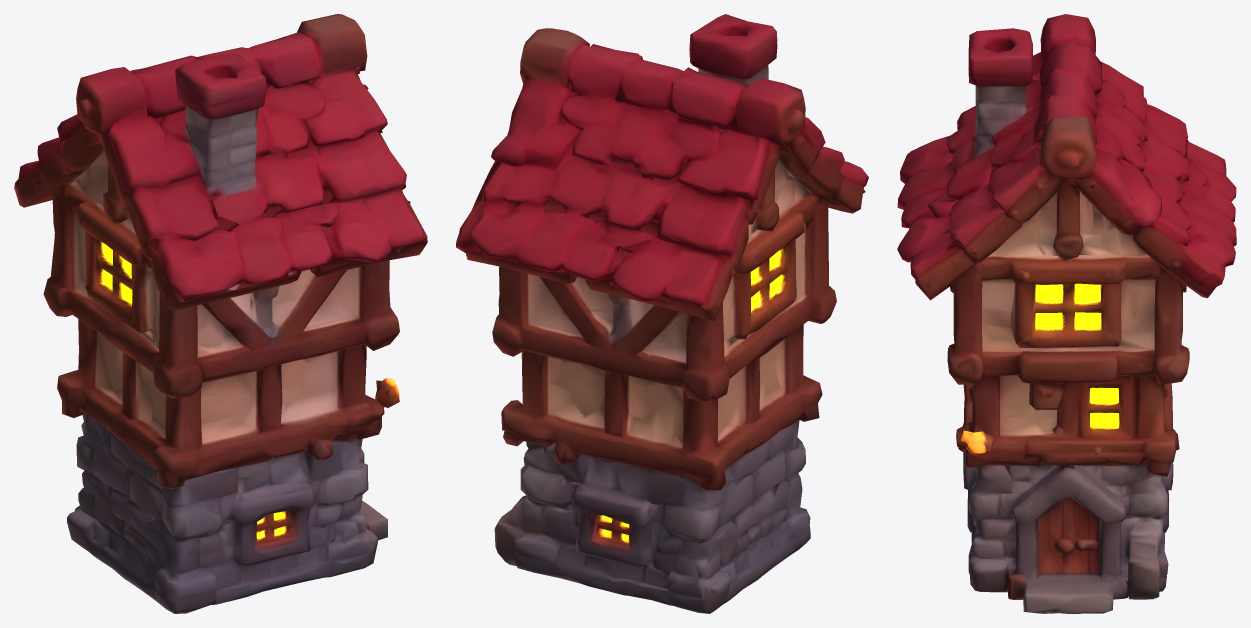
File: camp_townhouse-DhGTqWe_.glb
3 views of the same model, side by side, from view 1: azimuth 30°, elevation 25°; view 2: azimuth 150°, elevation 25°; view 3: azimuth 270°, elevation 25° (orthographic). The views are drawn at different scales.
Visible parts, largest first — view 1: tripo_node_afef9d91-7879-4c61-9924-eb78532b59de; view 2: tripo_node_afef9d91-7879-4c61-9924-eb78532b59de; view 3: tripo_node_afef9d91-7879-4c61-9924-eb78532b59de.
Boxes of the visible parts, x1,y1,x2,y2 form: tripo_node_afef9d91-7879-4c61-9924-eb78532b59de: (14, 14, 427, 613); tripo_node_afef9d91-7879-4c61-9924-eb78532b59de: (456, 14, 868, 613); tripo_node_afef9d91-7879-4c61-9924-eb78532b59de: (897, 14, 1236, 613).
Bounding box in the file's own units: 0.5705 × 1 × 0.6287.
1 material, 1 textured.
